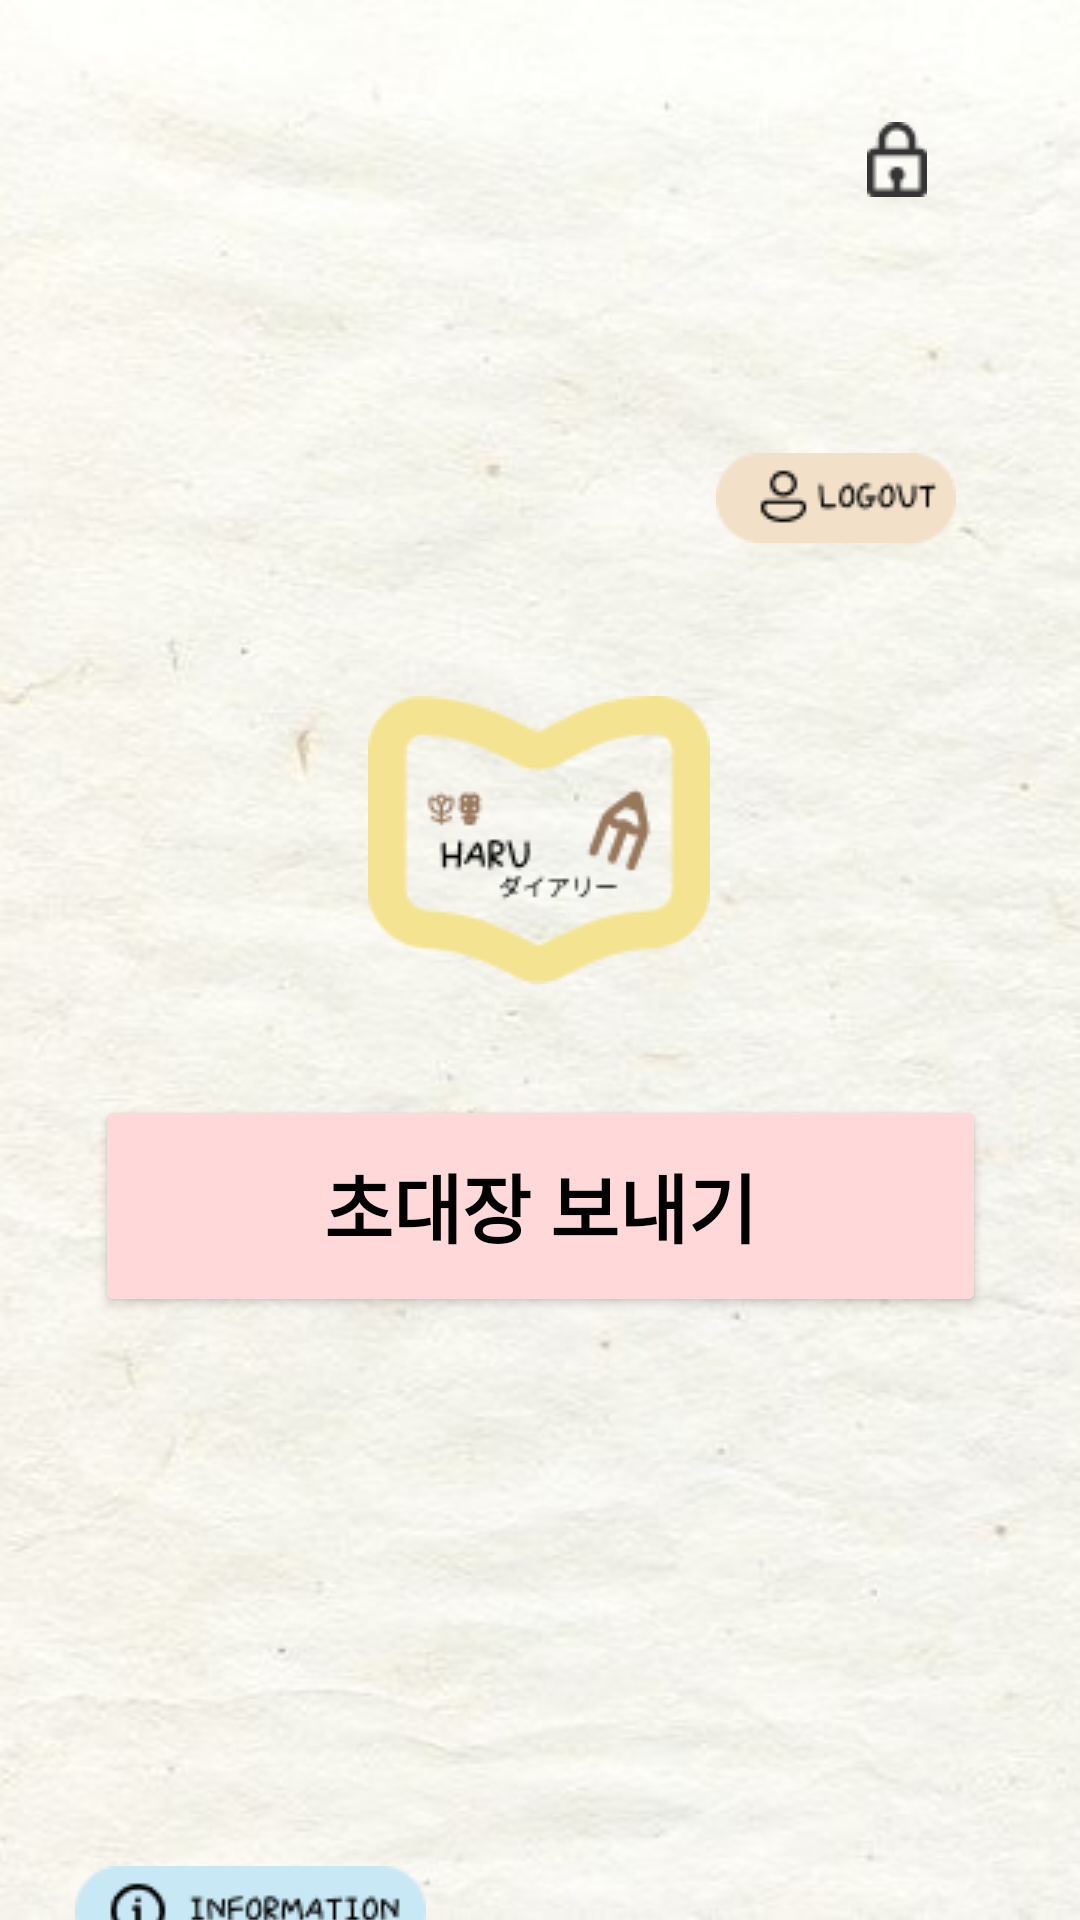

Icon click points for this 1080×1920 phone screenshot, format (x,y):
lock: (897,159)
